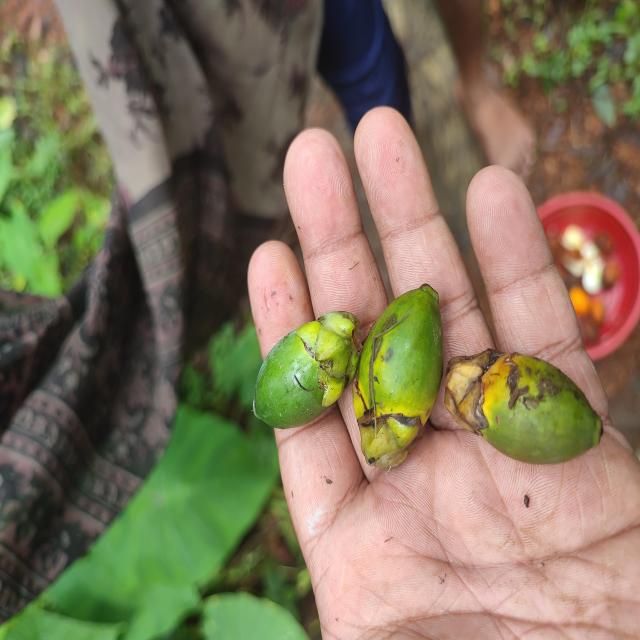damaged: (351, 287, 444, 477), (451, 354, 603, 467), (254, 314, 358, 431)
